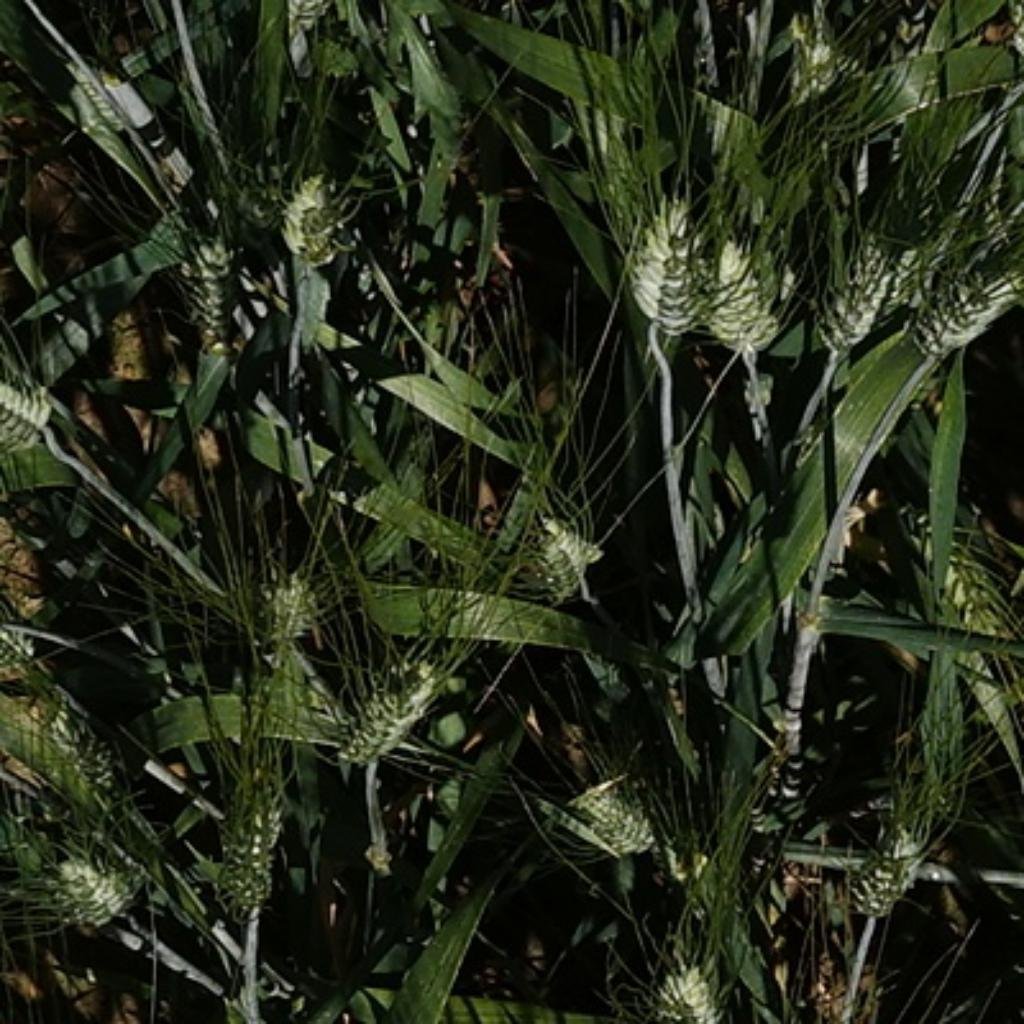0-0: (614, 168, 721, 358), (801, 209, 936, 353), (5, 655, 125, 814), (893, 501, 1024, 645), (327, 634, 450, 765), (916, 225, 1024, 371), (199, 744, 291, 913), (834, 791, 939, 916), (706, 197, 783, 363), (547, 752, 665, 857), (660, 819, 765, 934), (762, 2, 862, 120), (171, 209, 253, 348), (51, 48, 153, 158), (232, 550, 330, 657), (30, 832, 143, 921), (506, 504, 601, 596), (622, 944, 729, 1024), (279, 166, 360, 258), (2, 355, 66, 463), (283, 0, 336, 49)
